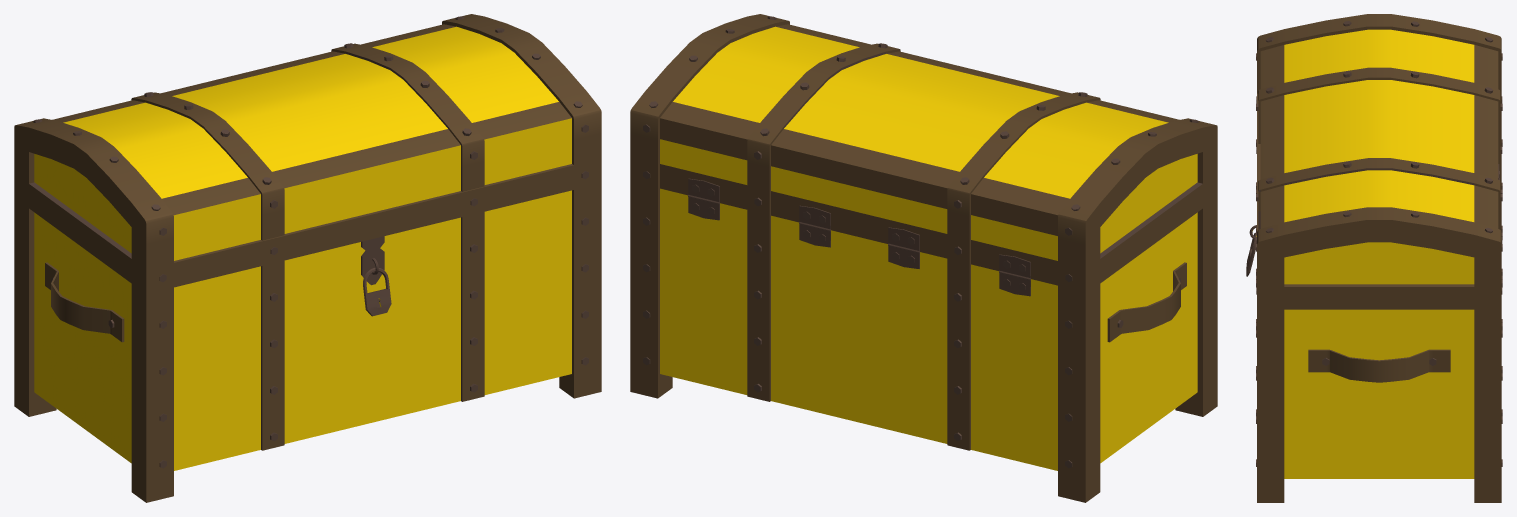
The model's file is GoldChest.fbx.
3 views of the same model, side by side, from view 1: azimuth 30°, elevation 25°; view 2: azimuth 150°, elevation 25°; view 3: azimuth 270°, elevation 25° (orthographic). The views are drawn at different scales.
Parts seen in each view (by area): view 1: Chest; view 2: Chest; view 3: Chest.
Part boxes in pixels (left/top/right/bottom): Chest: left=14, top=14, right=601, bottom=502; Chest: left=630, top=14, right=1217, bottom=502; Chest: left=1246, top=14, right=1502, bottom=502.
Size of the model in its own units: 223 by 132 by 108.
